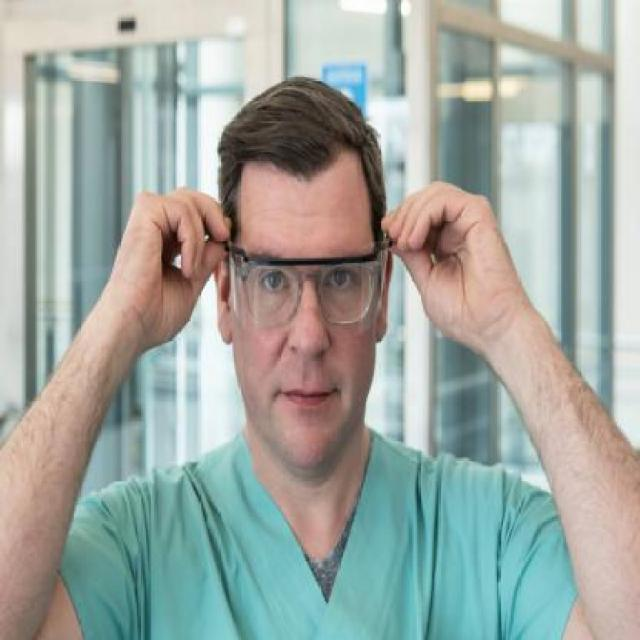face_nomask: (245, 255, 368, 419)
glasses: (218, 234, 394, 338)
hand_noglove: (367, 176, 510, 330), (111, 183, 232, 340)
head_nohelmet: (213, 70, 385, 198)
person: (99, 75, 547, 640)
